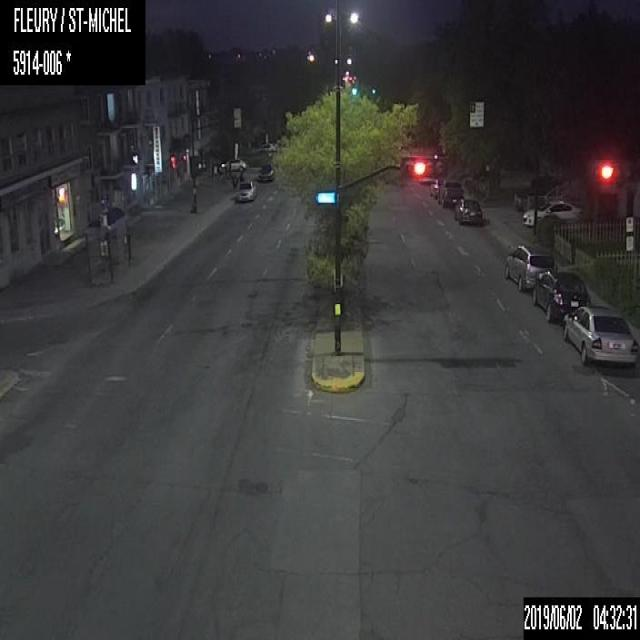pedestrian: (230, 171, 238, 192)
vehicle: (559, 303, 639, 364), (530, 267, 590, 322), (501, 242, 555, 292), (522, 199, 580, 226), (452, 198, 483, 222), (438, 180, 464, 207), (234, 178, 256, 203), (256, 162, 274, 182), (430, 176, 445, 197), (230, 157, 246, 170)
